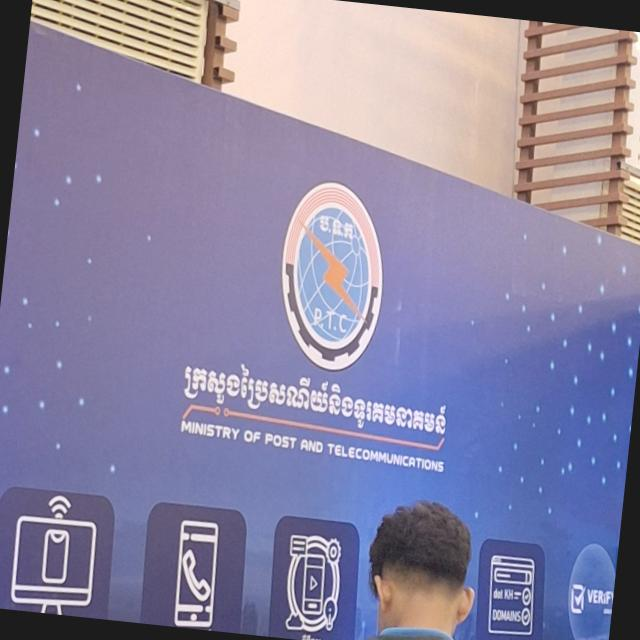Yolov11kh: (162, 332, 472, 456)
